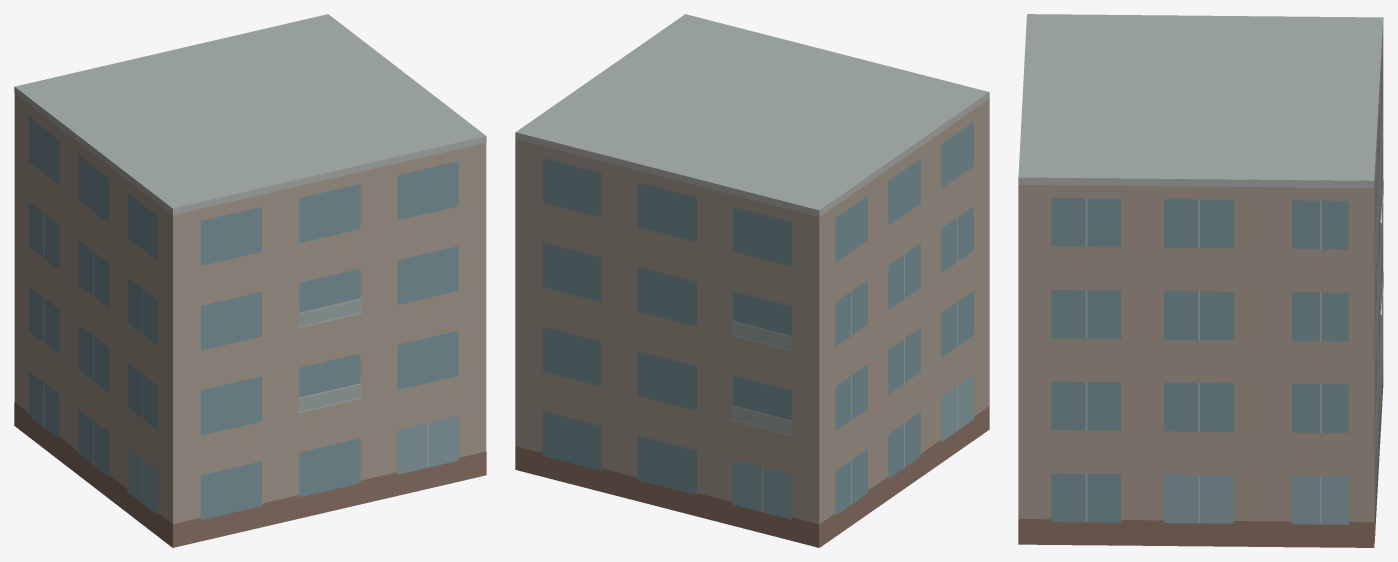
Rendered from residential-63d90e58-3d87-4e19-ac4b-4ff9a30d1081.glb.
3 renders of one model, left to right at view 1: azimuth 30°, elevation 25°; view 2: azimuth 150°, elevation 25°; view 3: azimuth 270°, elevation 25°, orthographic. The views are drawn at different scales.
Parts seen in each view (by area): view 1: residential-63d90e58-3d87-4e19-ac4b-4ff9a30d1081.tmp; view 2: residential-63d90e58-3d87-4e19-ac4b-4ff9a30d1081.tmp; view 3: residential-63d90e58-3d87-4e19-ac4b-4ff9a30d1081.tmp.
Part boxes in pixels (x1,y1,x2,y2): residential-63d90e58-3d87-4e19-ac4b-4ff9a30d1081.tmp: (14, 14, 486, 547); residential-63d90e58-3d87-4e19-ac4b-4ff9a30d1081.tmp: (515, 14, 989, 547); residential-63d90e58-3d87-4e19-ac4b-4ff9a30d1081.tmp: (1018, 14, 1383, 547).
Bounding box in the file's own units: 11.9 × 12.2 × 11.01.
